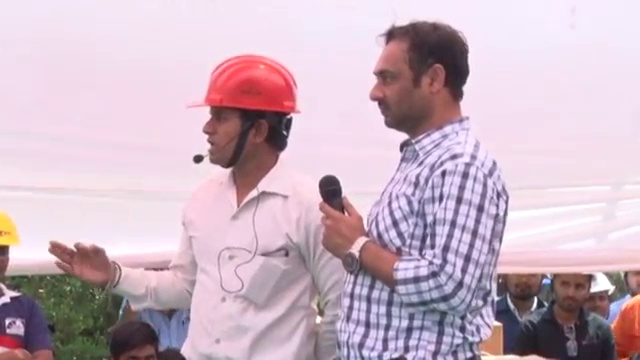helmet: (189, 56, 303, 120), (0, 210, 22, 249), (588, 273, 614, 298)
helmet_off: (368, 20, 471, 136), (104, 316, 166, 359), (552, 276, 594, 320), (507, 273, 542, 303), (626, 271, 640, 299)
helmet_on: (190, 55, 298, 173), (0, 211, 23, 286), (585, 272, 614, 319)
person: (49, 49, 347, 360), (316, 18, 509, 360), (519, 276, 616, 360), (0, 213, 52, 360), (491, 273, 550, 354), (613, 267, 640, 359)
